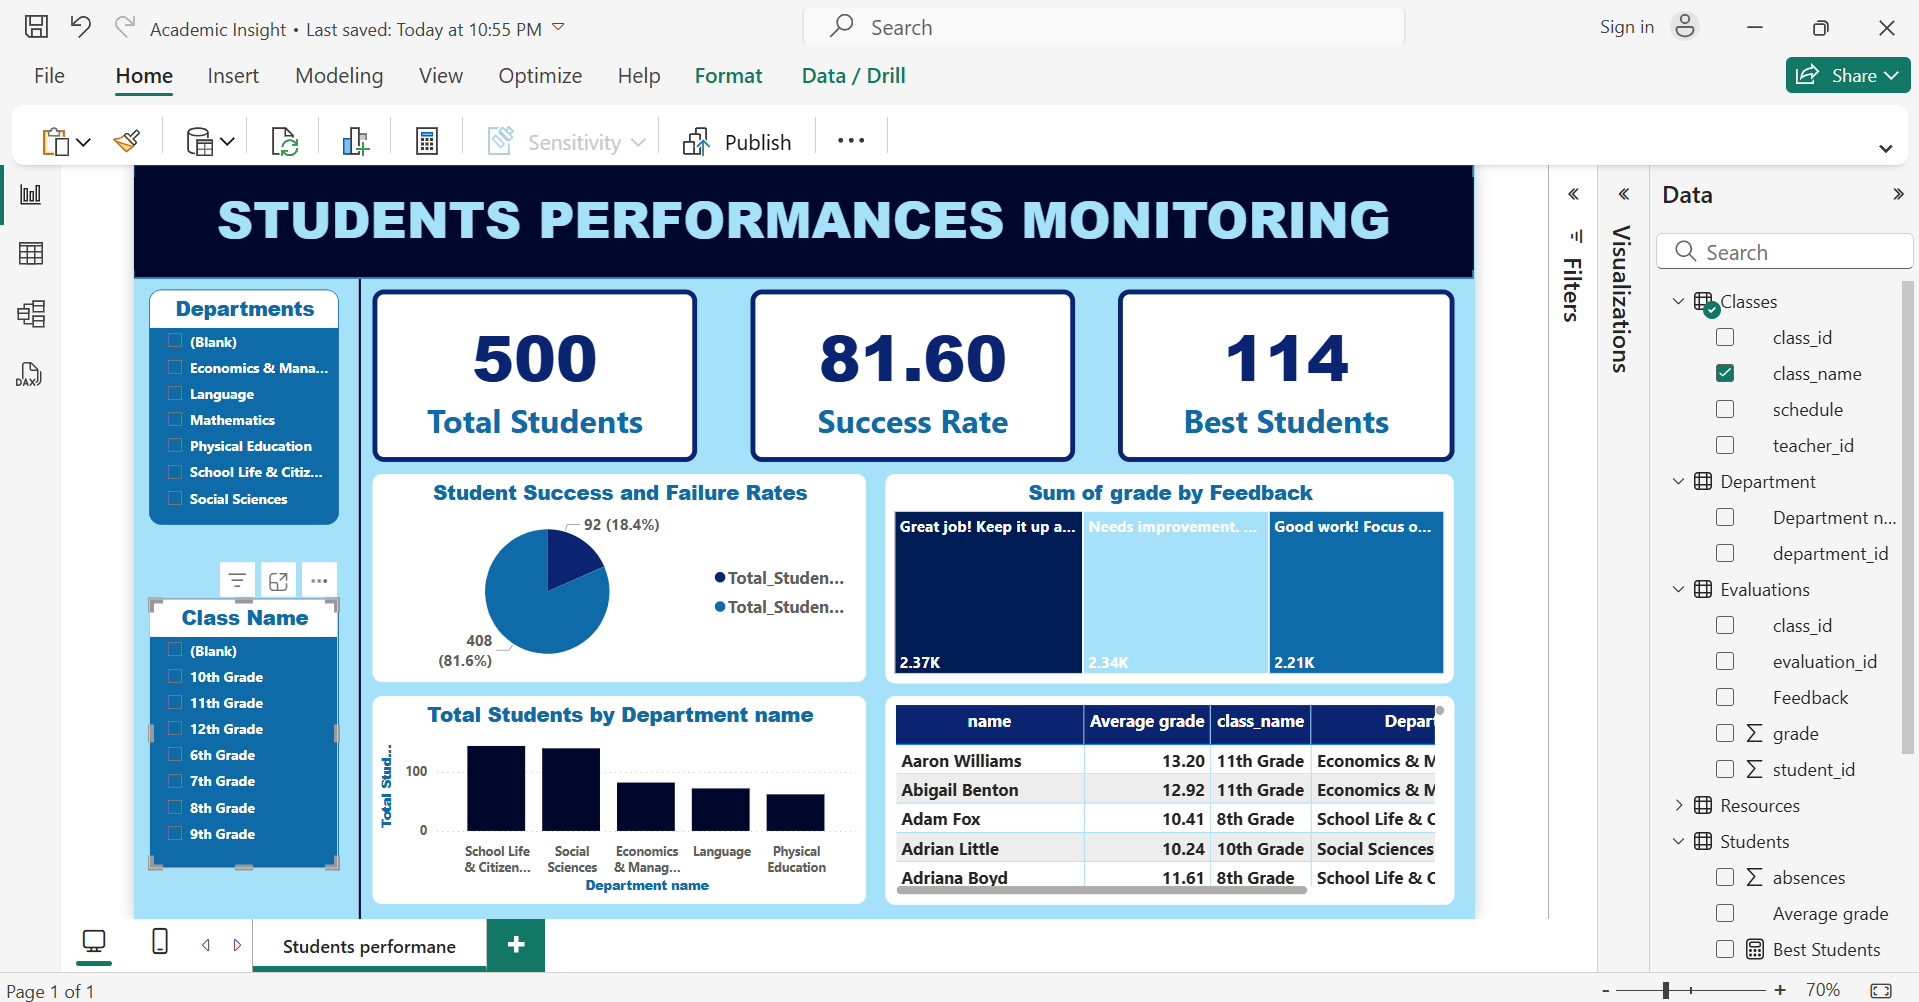

The dashboard page shown, as its layout file describes it:
{"tool":"powerbi","page":{"name":"Students performane","canvas":[1280,720],"ordinal":1},"visuals":[{"type":"shape","box":[0,0,1279.5,108.6],"z":0},{"type":"textbox","box":[0,10.9,1279.5,88.4],"z":1000},{"type":"shape","box":[167.5,108.6,96.2,611.1],"z":2000},{"type":"slicer","title":"Class Name","fields":{"Values":["Classes.class_name"]},"box":[13.6,425.5,181.7,257.4],"z":3000},{"type":"slicer","title":"Departments ","fields":{"Values":["Department.department_name"]},"box":[13.6,146.9,181.7,224.1],"z":4000},{"type":"card","fields":{"Values":["Students.Sum_students"]},"box":[228,119.4,310.2,164.4],"z":5000},{"type":"card","fields":{"Values":["Students.Success_rate"]},"box":[589.3,119.4,310.2,164.4],"z":6000},{"type":"card","fields":{"Values":["Students.Best_students"]},"box":[939.8,119.4,321,164.4],"z":7000},{"type":"pieChart","title":"Student Success and Failure Rates","fields":{"Y":["Students.Total_Students_failed","Students.Total_Students_Passed"]},"box":[228,294.7,471.5,198.5],"z":8000},{"type":"clusteredColumnChart","fields":{"Category":["Department.department_name"],"Y":["Students.Total Students"]},"box":[228,507.1,471.5,198.5],"z":9000},{"type":"treemap","fields":{"Group":["Evaluations.feedback"],"Values":["Sum(Evaluations.grade)"]},"box":[718.1,294.7,542.8,200.1],"z":10000},{"type":"tableEx","fields":{"Values":["Students.name","Students.Average grade","Classes.class_name","Department.Department name"]},"box":[718,507,543,199],"z":11000}]}

Visuals, with their boxes on the page's 1280x720 design canvas (x1, y1, x2, y2). These are canvas units, not pixel positions in the 1919x1002 screenshot, which may show the page scaled, cropped or inside an application window:
shape: left=0, top=0, right=1280, bottom=109
textbox: left=0, top=11, right=1280, bottom=99
shape: left=168, top=109, right=264, bottom=720
"Class Name" slicer: left=14, top=426, right=195, bottom=683
"Departments " slicer: left=14, top=147, right=195, bottom=371
card - Students.Sum_students: left=228, top=119, right=538, bottom=284
card - Students.Success_rate: left=589, top=119, right=900, bottom=284
card - Students.Best_students: left=940, top=119, right=1261, bottom=284
"Student Success and Failure Rates" pieChart: left=228, top=295, right=700, bottom=493
clusteredColumnChart - Department.department_name x Students.Total Students: left=228, top=507, right=700, bottom=706
treemap - Evaluations.feedback x Sum(Evaluations.grade): left=718, top=295, right=1261, bottom=495
tableEx - Students.name x Students.Average grade: left=718, top=507, right=1261, bottom=706
